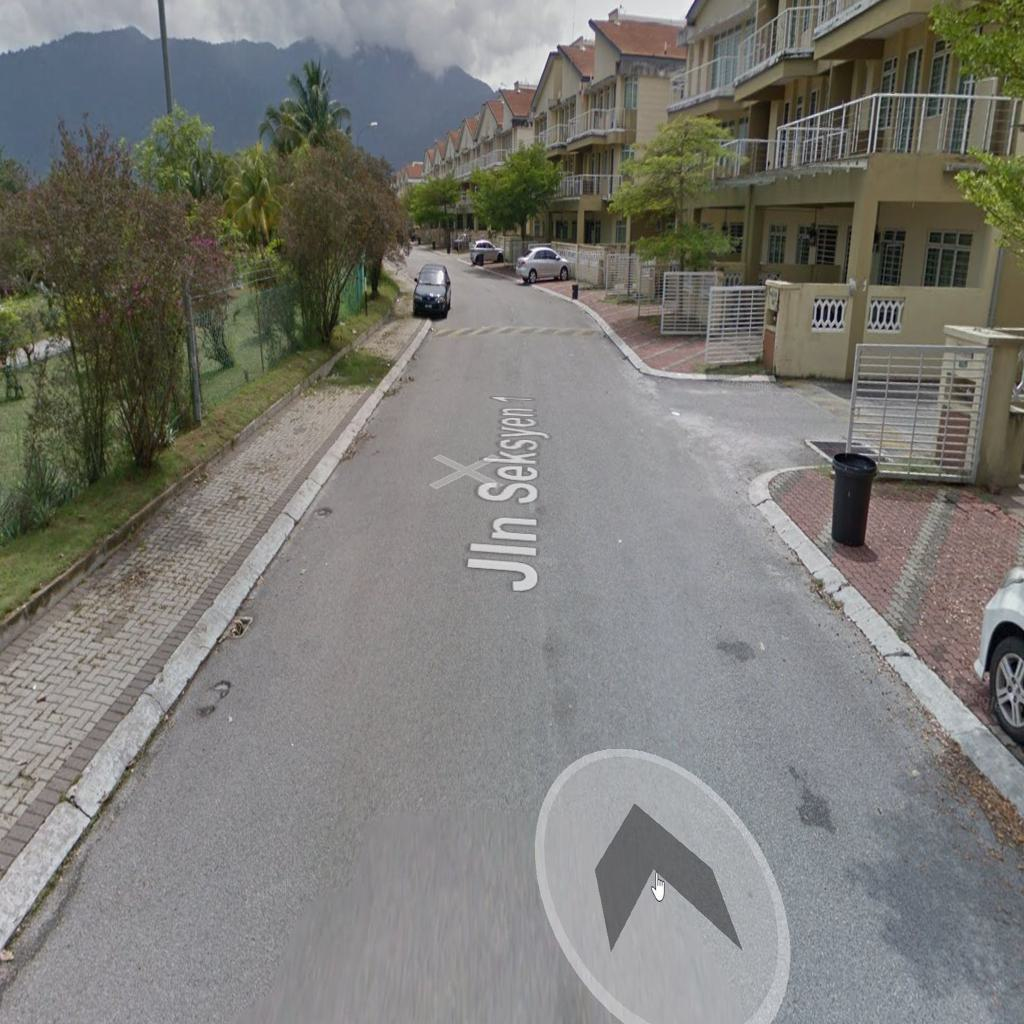Junction: (627, 343, 923, 527)
